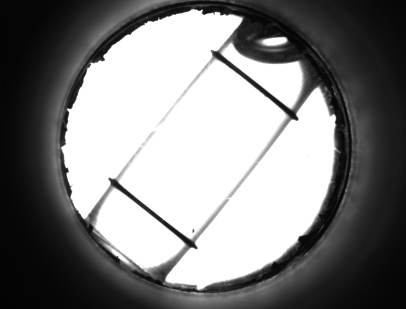line: (120, 196, 183, 229), (229, 71, 286, 99)
